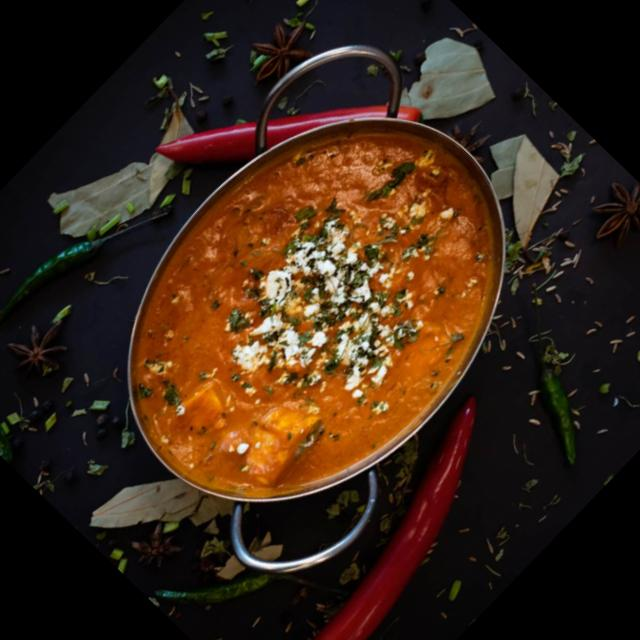ShahiPaneer: (61, 58, 565, 565)
